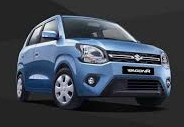car: (13, 13, 174, 113)
